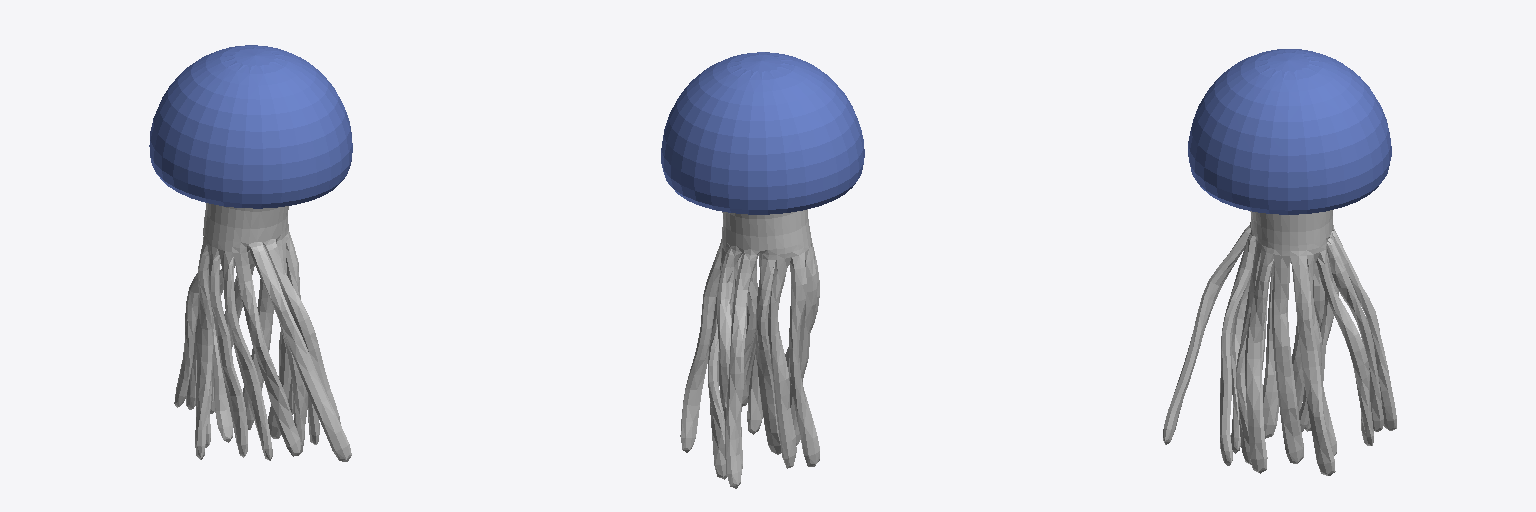
Rendered from kwal3.obj.
3 renders of one model, left to right at view 1: azimuth 30°, elevation 25°; view 2: azimuth 150°, elevation 25°; view 3: azimuth 270°, elevation 25°, orthographic.
Visible parts, largest first — view 1: Sphere; view 2: Sphere; view 3: Sphere.
Part boxes in pixels (bbox=[...]): Sphere: bbox=[149, 45, 352, 461]; Sphere: bbox=[661, 52, 864, 488]; Sphere: bbox=[1163, 49, 1396, 475].
Bounding box in the file's own units: 92.38 × 197 × 106.